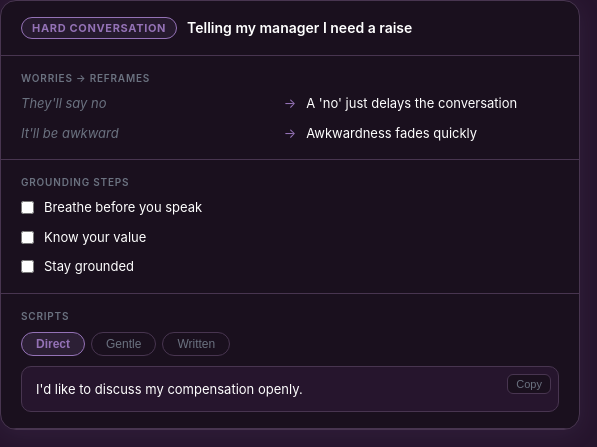
Scenario: PrepWidget — scripts section for hard_conversation › clicking Gentle tab shows gentle script text
The width and height of the screenshot is (597, 447).
Click the button "Gentle" at (124, 344), box top-left (91, 332), bottom-right (156, 356)
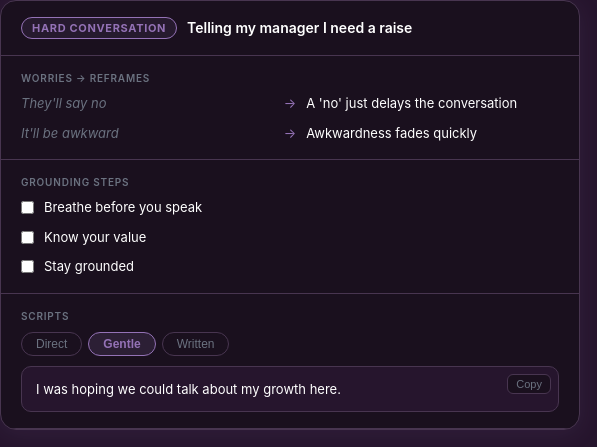
Expected: the text "I was hoping we could talk about my growth here." is shown, top-left (21, 366), bottom-right (559, 412)
